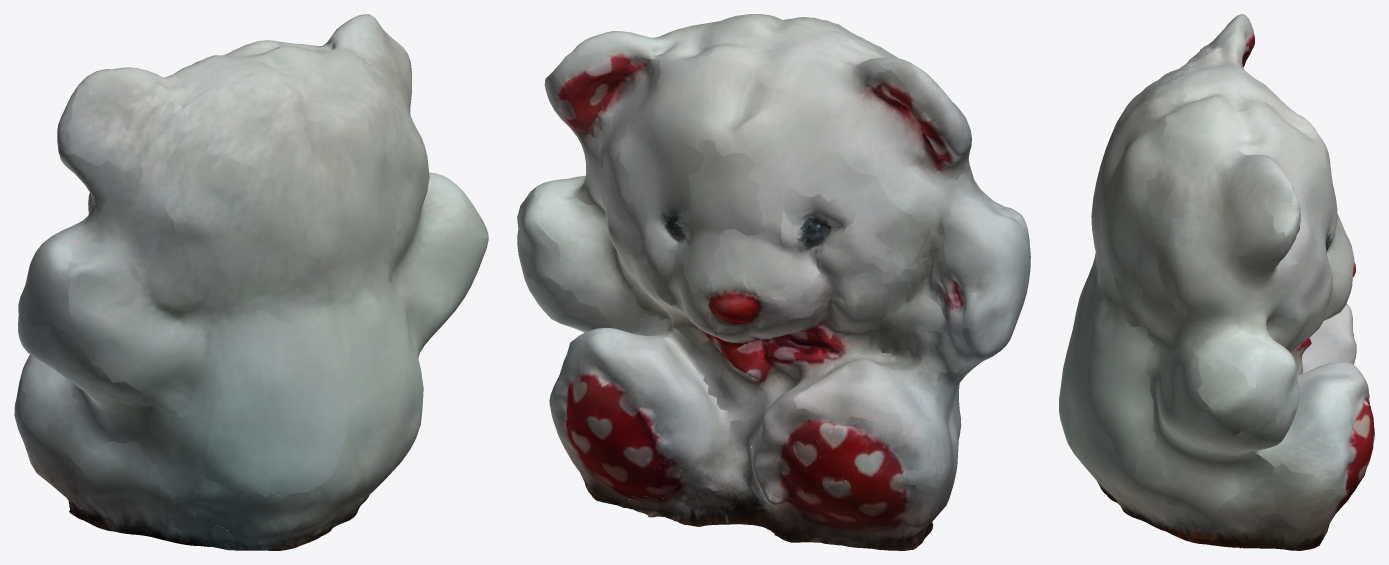
The model's file is whiteBear.glb.
3 renders of one model, left to right at view 1: azimuth 30°, elevation 25°; view 2: azimuth 150°, elevation 25°; view 3: azimuth 270°, elevation 25°, orthographic. The views are drawn at different scales.
Parts seen in each view (by area): view 1: Mesh_0; view 2: Mesh_0; view 3: Mesh_0.
Part boxes in pixels (box(x1,y1,x2,y2)): Mesh_0: box(14, 14, 488, 550); Mesh_0: box(517, 14, 1030, 550); Mesh_0: box(1059, 14, 1374, 550).
Size of the model in its own units: 0.5722 by 0.5282 by 0.3651.
Materials: 1 (1 with a texture image).
